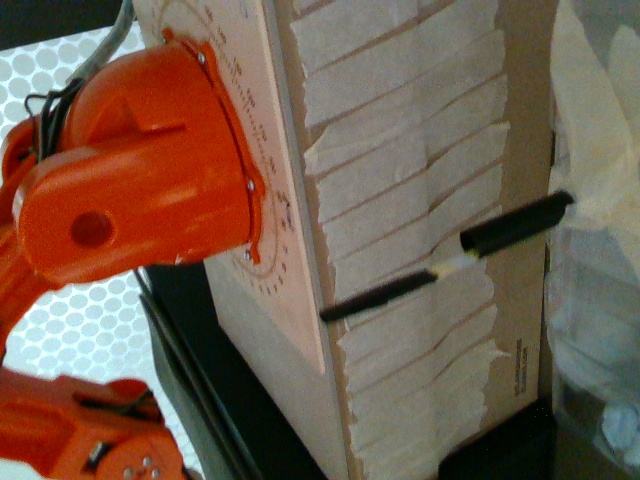test_strip: (317, 250, 482, 326)
